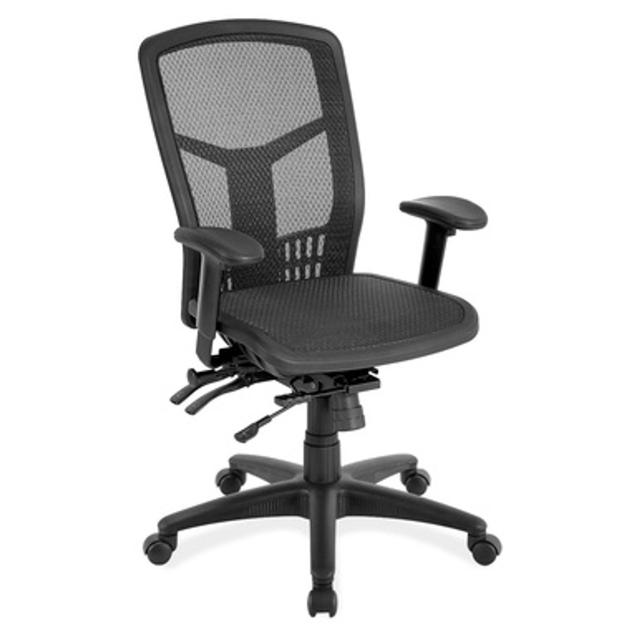chair: (136, 17, 502, 619)
